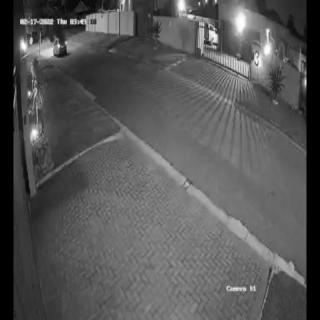car: (204, 22, 219, 44), (53, 38, 67, 55)
